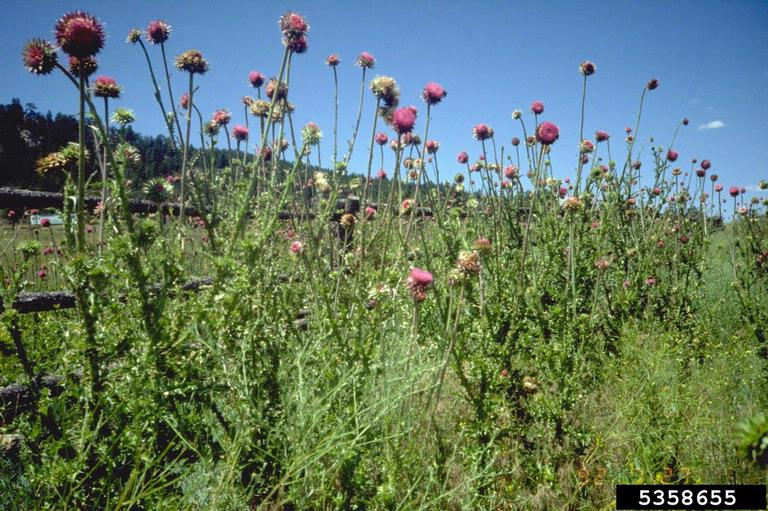thistle: (52, 18, 112, 56), (269, 10, 315, 49), (387, 106, 436, 140), (20, 36, 57, 74), (402, 258, 431, 305), (529, 120, 559, 153), (92, 75, 125, 101), (352, 49, 383, 74), (422, 81, 447, 111), (323, 49, 344, 72), (470, 124, 491, 144), (248, 67, 265, 89), (529, 99, 549, 117), (593, 125, 611, 145), (231, 123, 250, 141), (663, 145, 682, 162), (577, 140, 595, 157)
